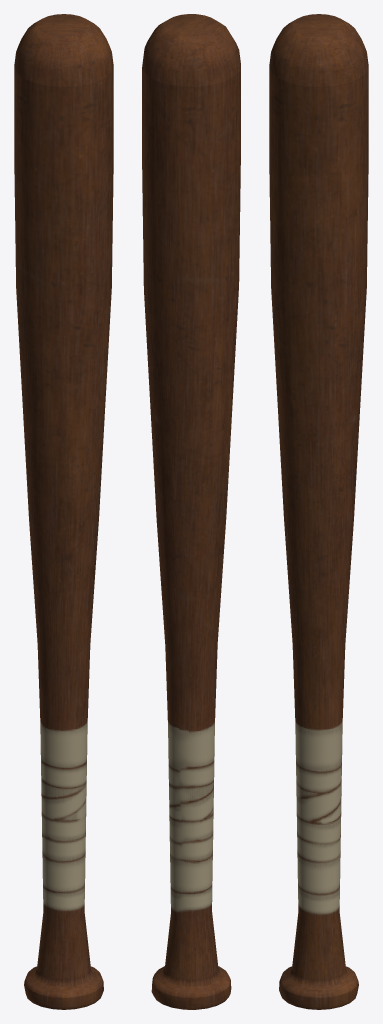
File: baseball bat.fbx
3 renders of one model, left to right at view 1: azimuth 90°, elevation 25°; view 2: azimuth 150°, elevation 25°; view 3: azimuth 270°, elevation 25°, orthographic.
Parts seen in each view (by area): view 1: Baseball_Bat; view 2: Baseball_Bat; view 3: Baseball_Bat.
Part boxes in pixels (bbox=[...]): Baseball_Bat: bbox=[14, 14, 113, 1009]; Baseball_Bat: bbox=[142, 14, 240, 1009]; Baseball_Bat: bbox=[269, 14, 368, 1009].
Size of the model in its own units: 8.9 by 95.84 by 8.9.
